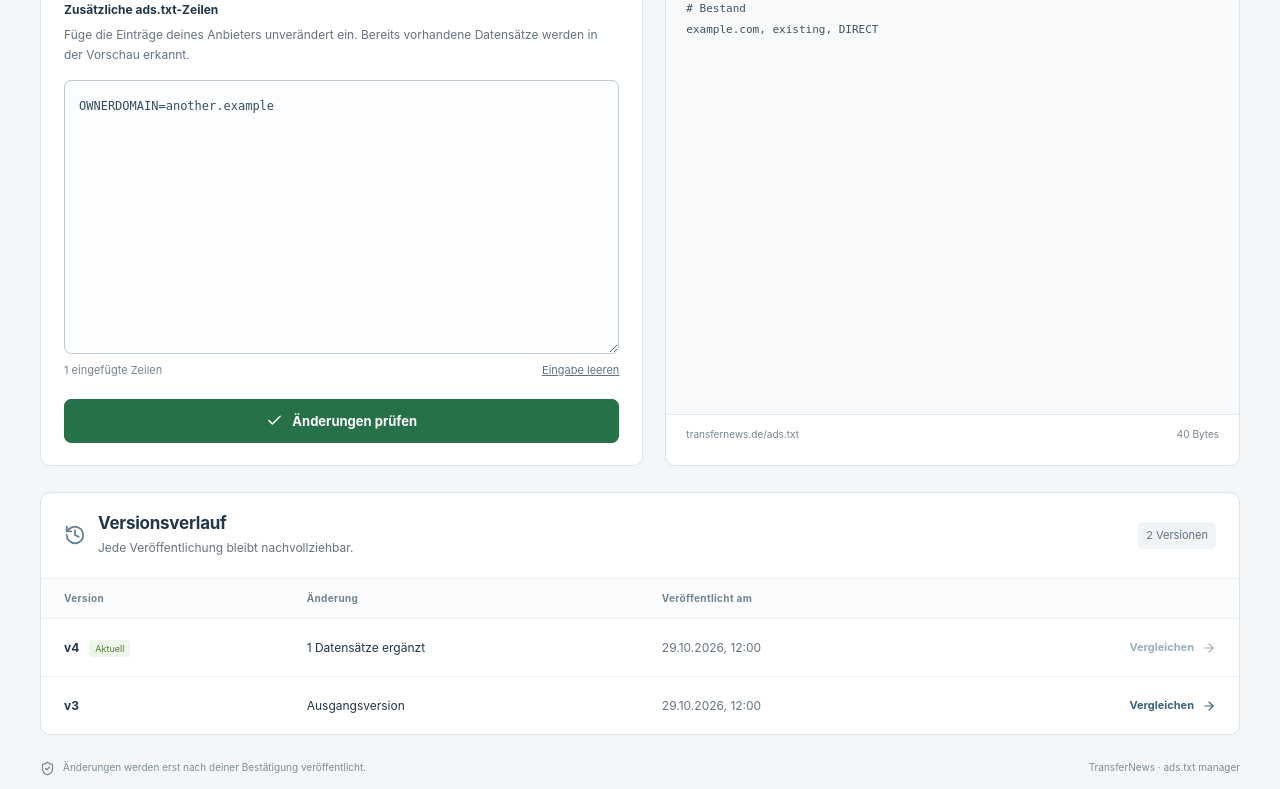
it: a conflicting directive explains why an existing ownership entry cannot be replaced by append
The width and height of the screenshot is (1280, 789).
(page scrolled)
Click the button "Änderungen prüfen" at (342, 421), box [64,399,619,443]
(page scrolled)
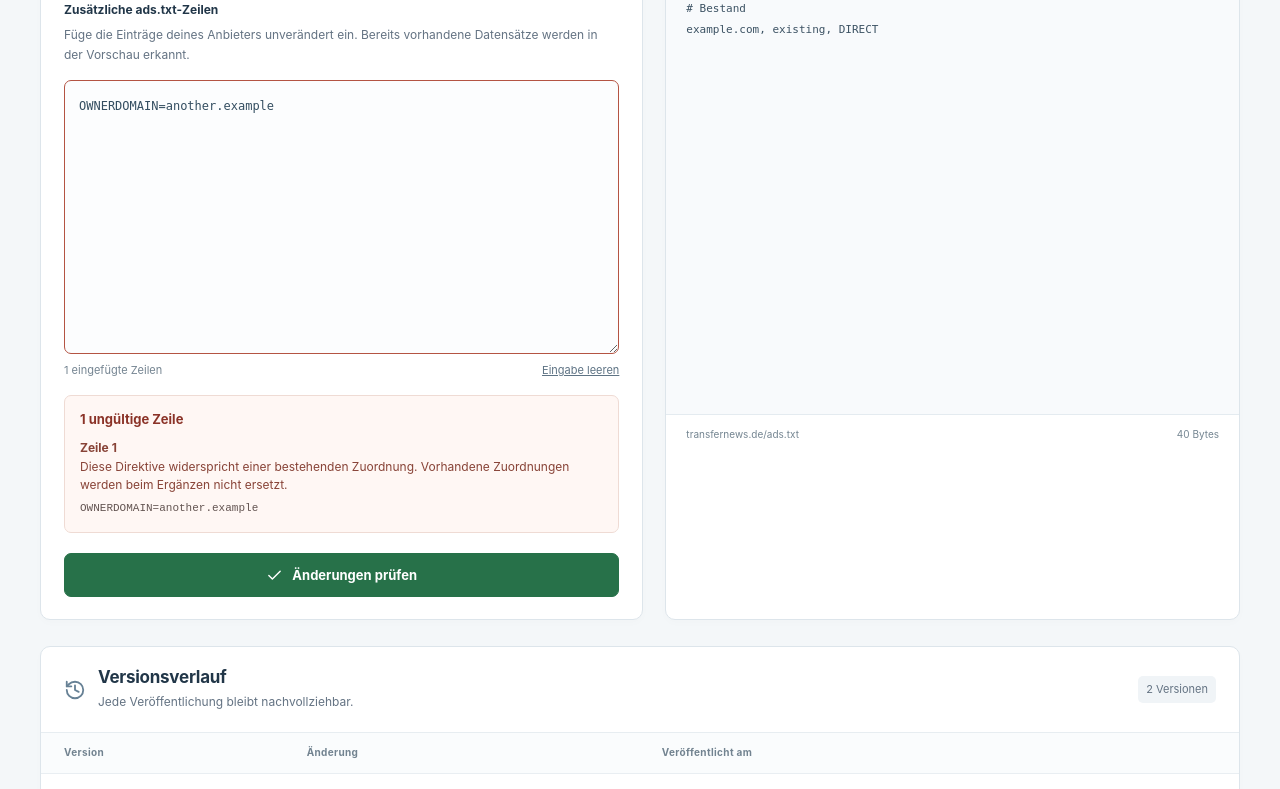
Expected: the text "widerspricht einer bestehenden Zuordnung" is shown, [80,459,569,492]
